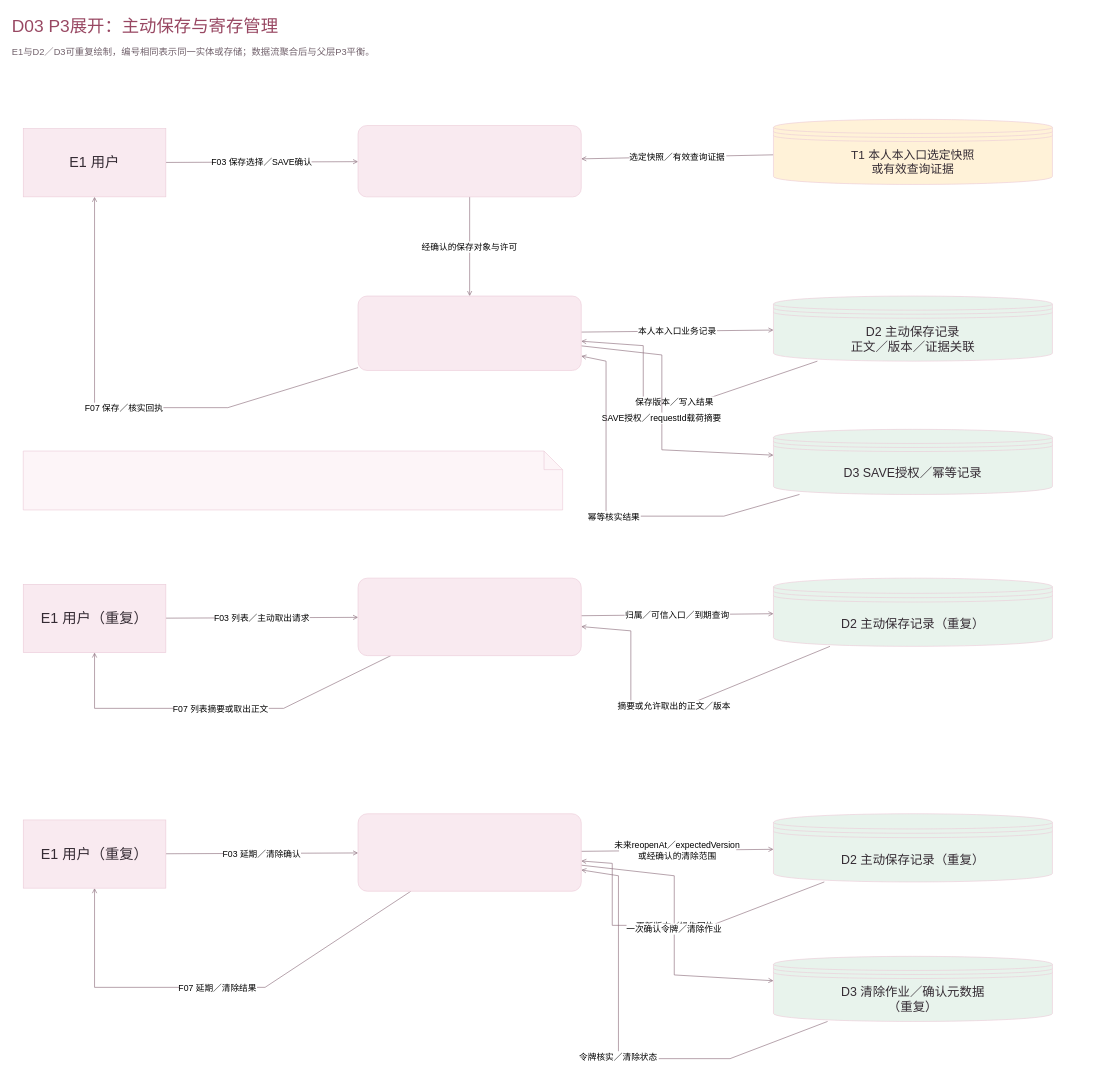
Some shapes in this 1100 by 1074 pixel diagram are drawn without their labels. The shapes that lost their labels are listed below. From the top down, each one's box as (x1, y1, x2, y2) in pixels, then its label:
(357, 125, 581, 197): P3.1 确定保存对象 SAVE范围／requestId
(357, 295, 581, 370): P3.2 校验并事务保存 归属／许可／幂等／版本
(23, 450, 563, 510): 临时处理许可在T1，SAVE随保存持久化；写超时同ID同载荷核实。 寄存列表无正文；取出须到期。清除令牌两分钟且仅一次有效。
(357, 578, 581, 656): P3.3 过滤并读取寄存 列表摘要／到期主动取出
(357, 813, 581, 891): P3.4 更新延期或清除 未来时间／版本／确认令牌
